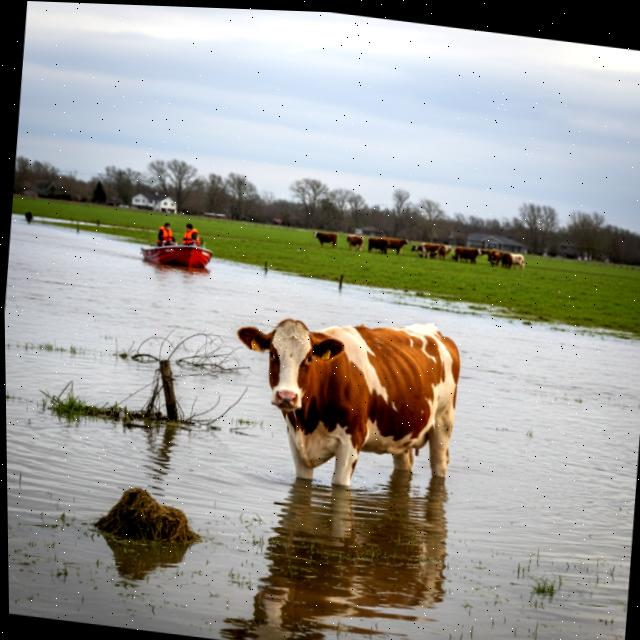cow: (213, 292, 484, 521), (378, 232, 410, 259), (451, 243, 487, 267), (308, 226, 341, 252), (420, 238, 447, 262), (366, 235, 393, 258), (343, 233, 366, 255), (508, 251, 525, 270), (409, 242, 424, 258), (499, 251, 512, 269), (488, 249, 500, 267), (441, 241, 453, 256)
rescuer: (154, 219, 175, 249), (180, 221, 202, 249)
